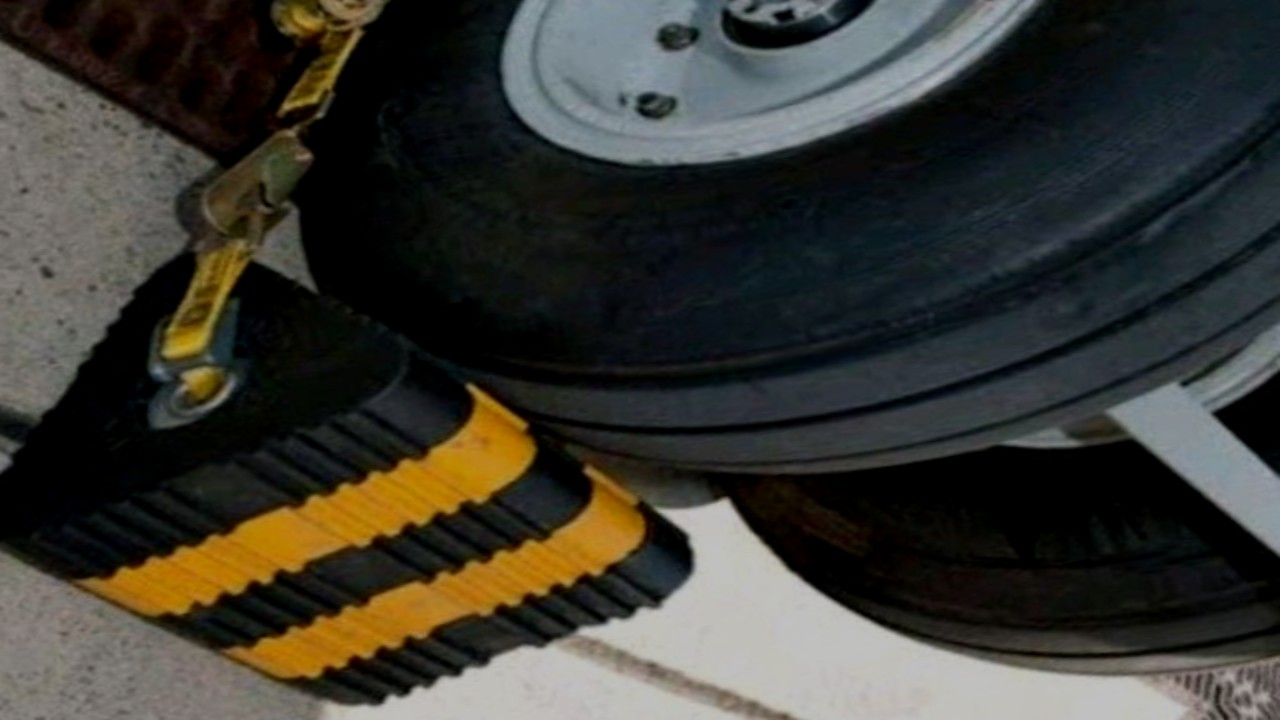chock: (0, 187, 722, 720)
wheel: (220, 0, 1280, 521), (698, 180, 1280, 713)
